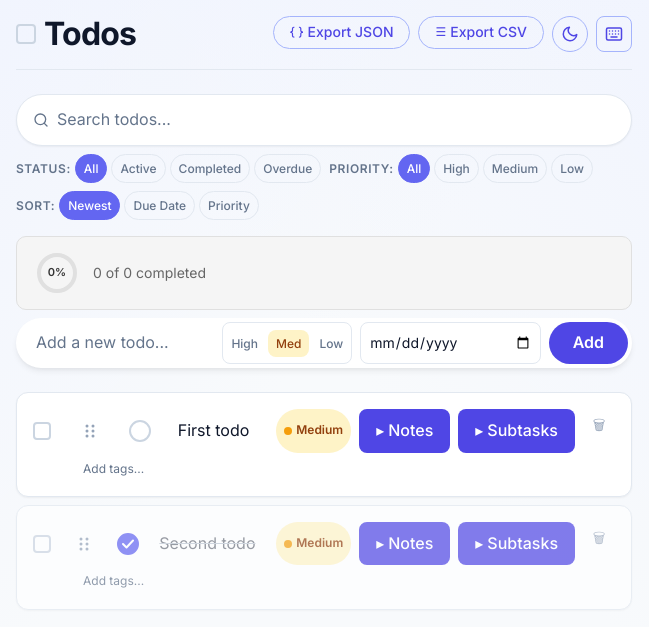
Test: TodoList › shows "No todos match your filters" when filters return empty
The image size is (649, 627).
Expected: the button "First todo" is shown, x1=178 y1=418 x2=249 y2=444
Click the button with class "filter-chip--high": (456, 169) x1=434 y1=154 x2=479 y2=183
Wait 300 ms
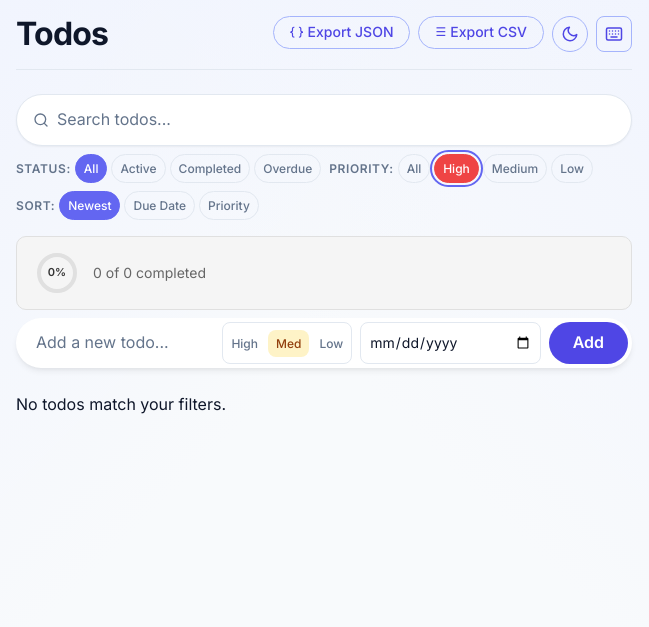
Expected: the text "No todos match your filters." is shown, x1=16 y1=394 x2=226 y2=414
